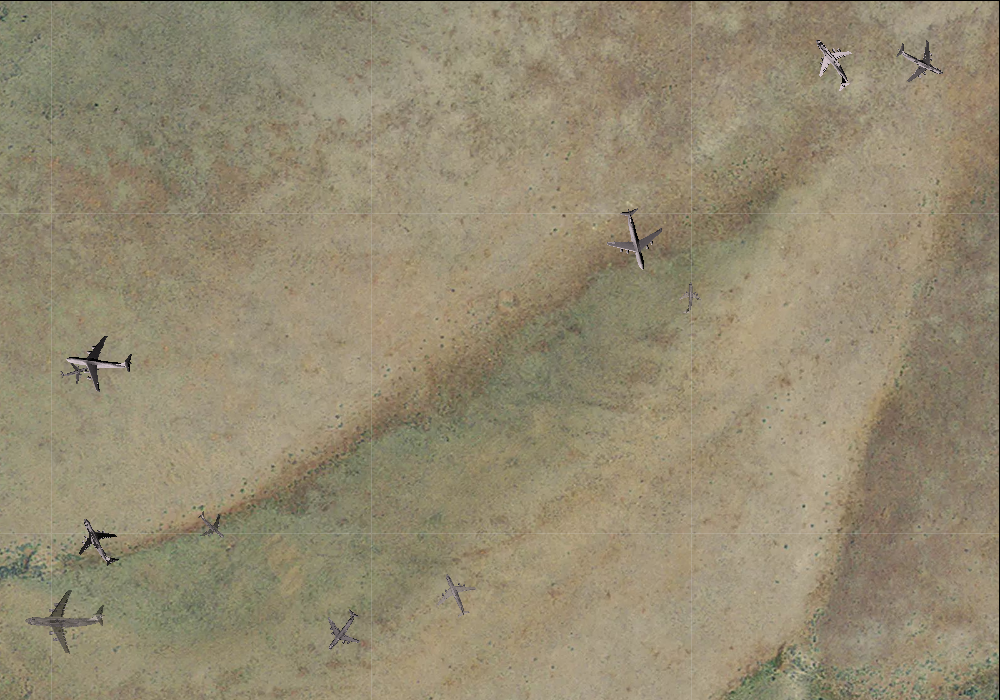plane: (23, 580, 105, 657), (795, 26, 868, 100), (599, 202, 671, 276), (61, 326, 135, 397), (64, 506, 132, 576), (887, 28, 954, 94), (310, 599, 373, 662), (426, 565, 484, 625), (188, 502, 234, 549), (56, 354, 91, 388), (674, 281, 703, 314)
